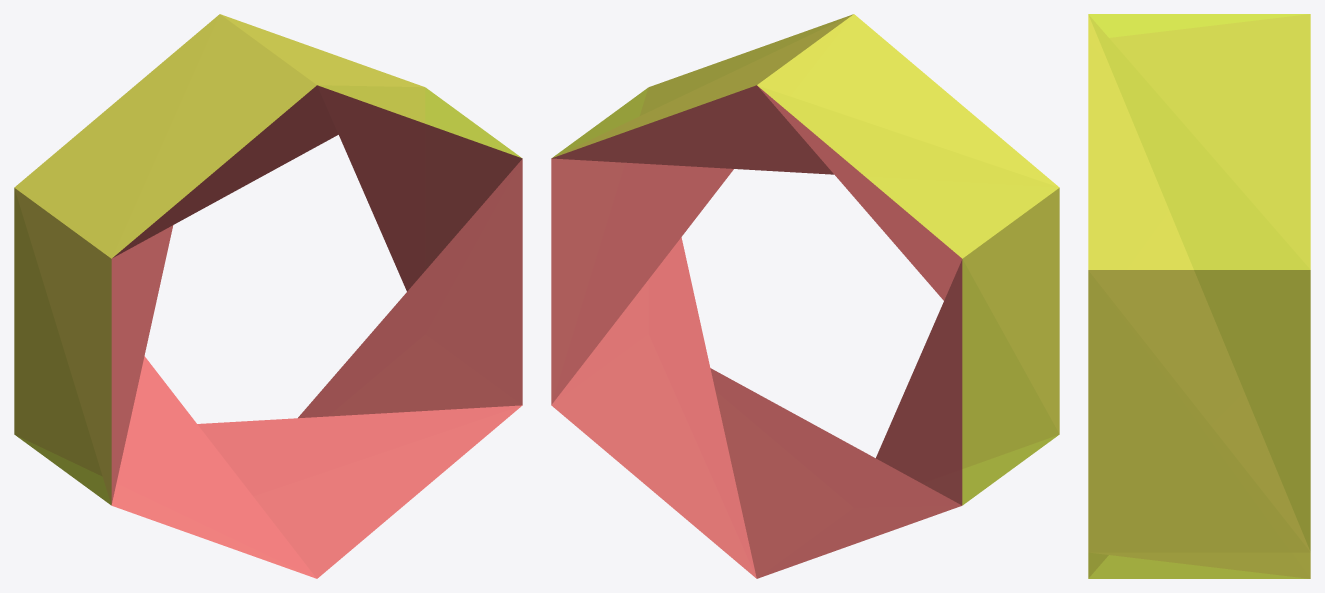
The model's file is HexagonalIrisToroid.obj.
3 views of the same model, side by side, from view 1: azimuth 30°, elevation 25°; view 2: azimuth 150°, elevation 25°; view 3: azimuth 270°, elevation 25° (orthographic). The views are drawn at different scales.
Size of the model in its own units: 2.44 by 2.8 by 1.
